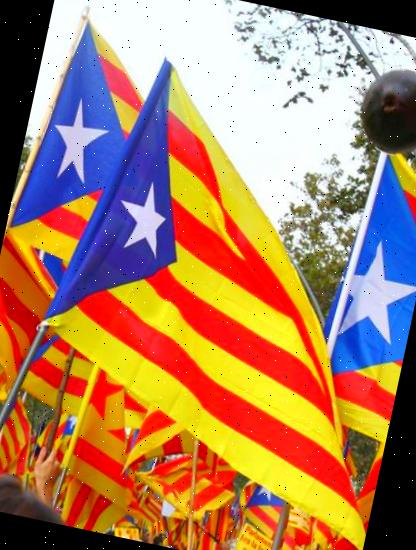Plum: (348, 61, 416, 164)
